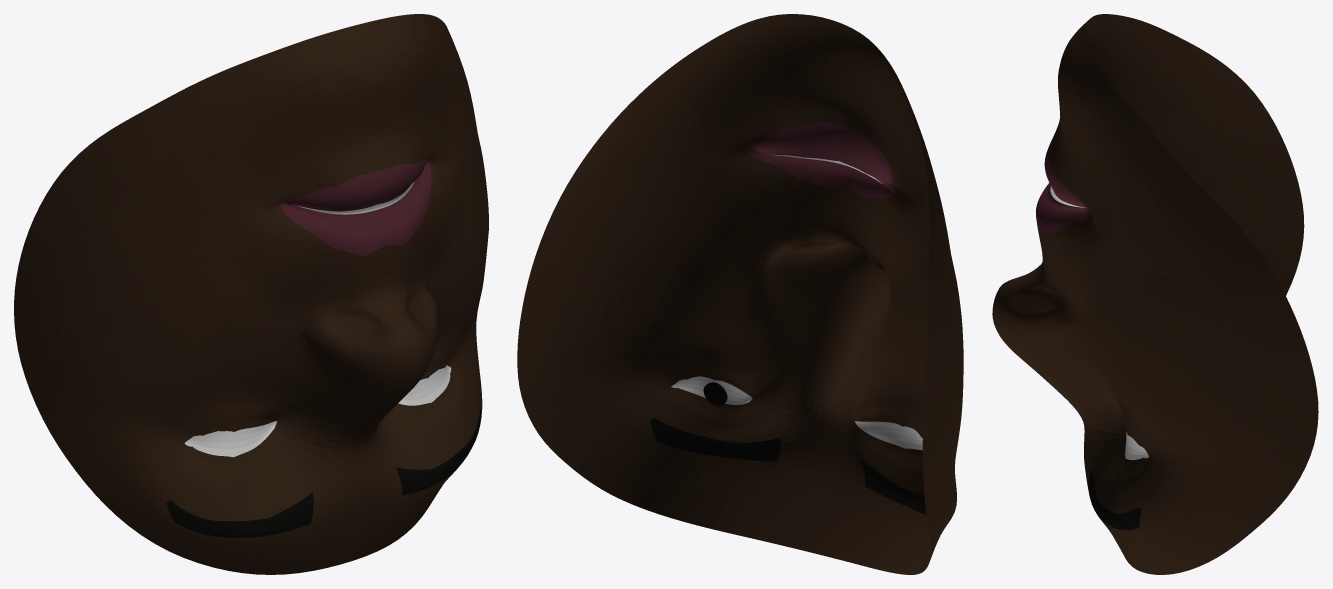
File: nervous.obj
3 views of the same model, side by side, from view 1: azimuth 30°, elevation 25°; view 2: azimuth 150°, elevation 25°; view 3: azimuth 270°, elevation 25° (orthographic). The views are drawn at different scales.
Parts seen in each view (by area): view 1: face_mesh_subdivided; view 2: face_mesh_subdivided; view 3: face_mesh_subdivided.
Part boxes in pixels (bbox=[...]): face_mesh_subdivided: bbox=[14, 14, 488, 574]; face_mesh_subdivided: bbox=[517, 14, 963, 574]; face_mesh_subdivided: bbox=[992, 14, 1318, 574].
Size of the model in its own units: 0.5961 by 0.7434 by 0.4315.
